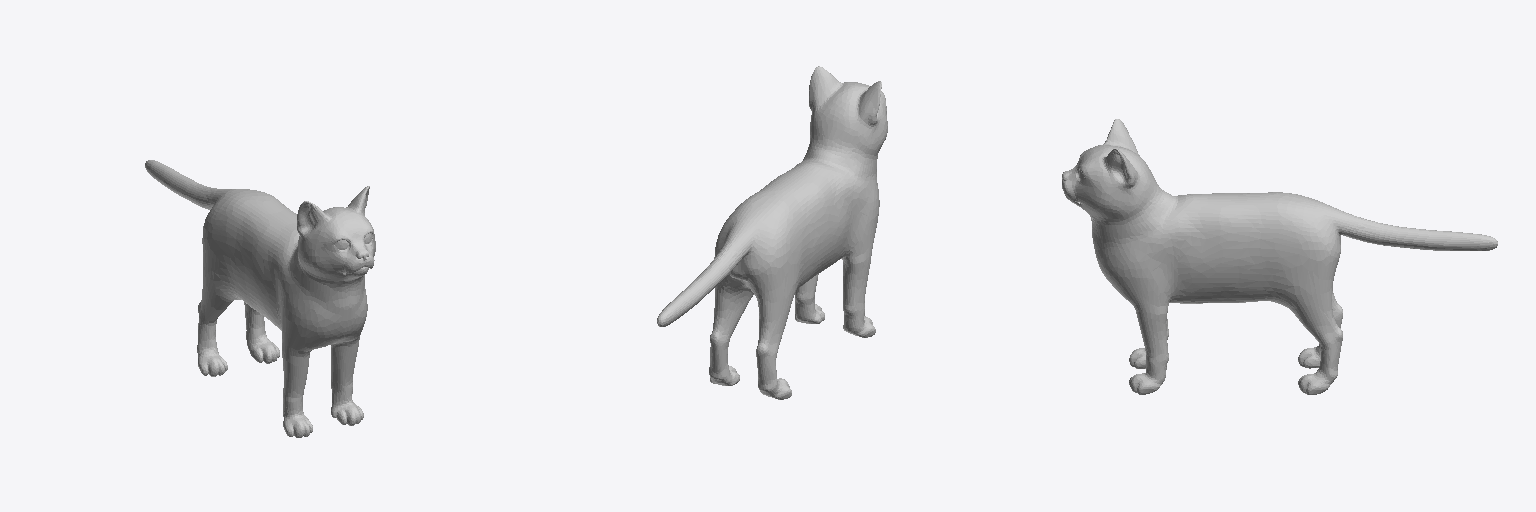
File: newcat.obj
The picture shows the model from 3 angles: view 1: azimuth 30°, elevation 25°; view 2: azimuth 150°, elevation 25°; view 3: azimuth 270°, elevation 25°; orthographic projection.
Visible parts, largest first — view 1: Cat_Cat_Cat; view 2: Cat_Cat_Cat; view 3: Cat_Cat_Cat.
Part boxes in pixels (x1,y1,x2,y2): Cat_Cat_Cat: (145,160,375,437); Cat_Cat_Cat: (657,66,887,399); Cat_Cat_Cat: (1062,119,1497,394).
Bounding box in the file's own units: 1.26 × 3.76 × 6.09.